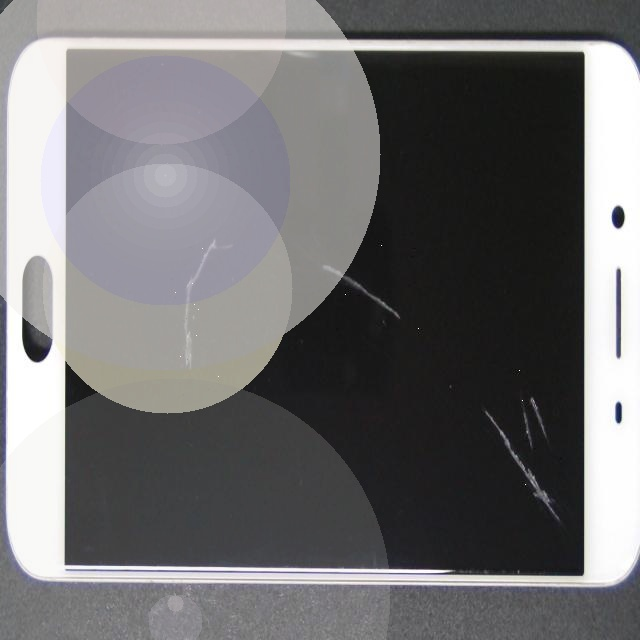scratch: (234, 176, 640, 611), (259, 201, 640, 605), (134, 112, 508, 449), (73, 166, 267, 561)
